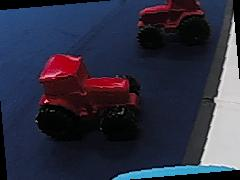Tracktor: (33, 50, 142, 139), (133, 0, 211, 46)
